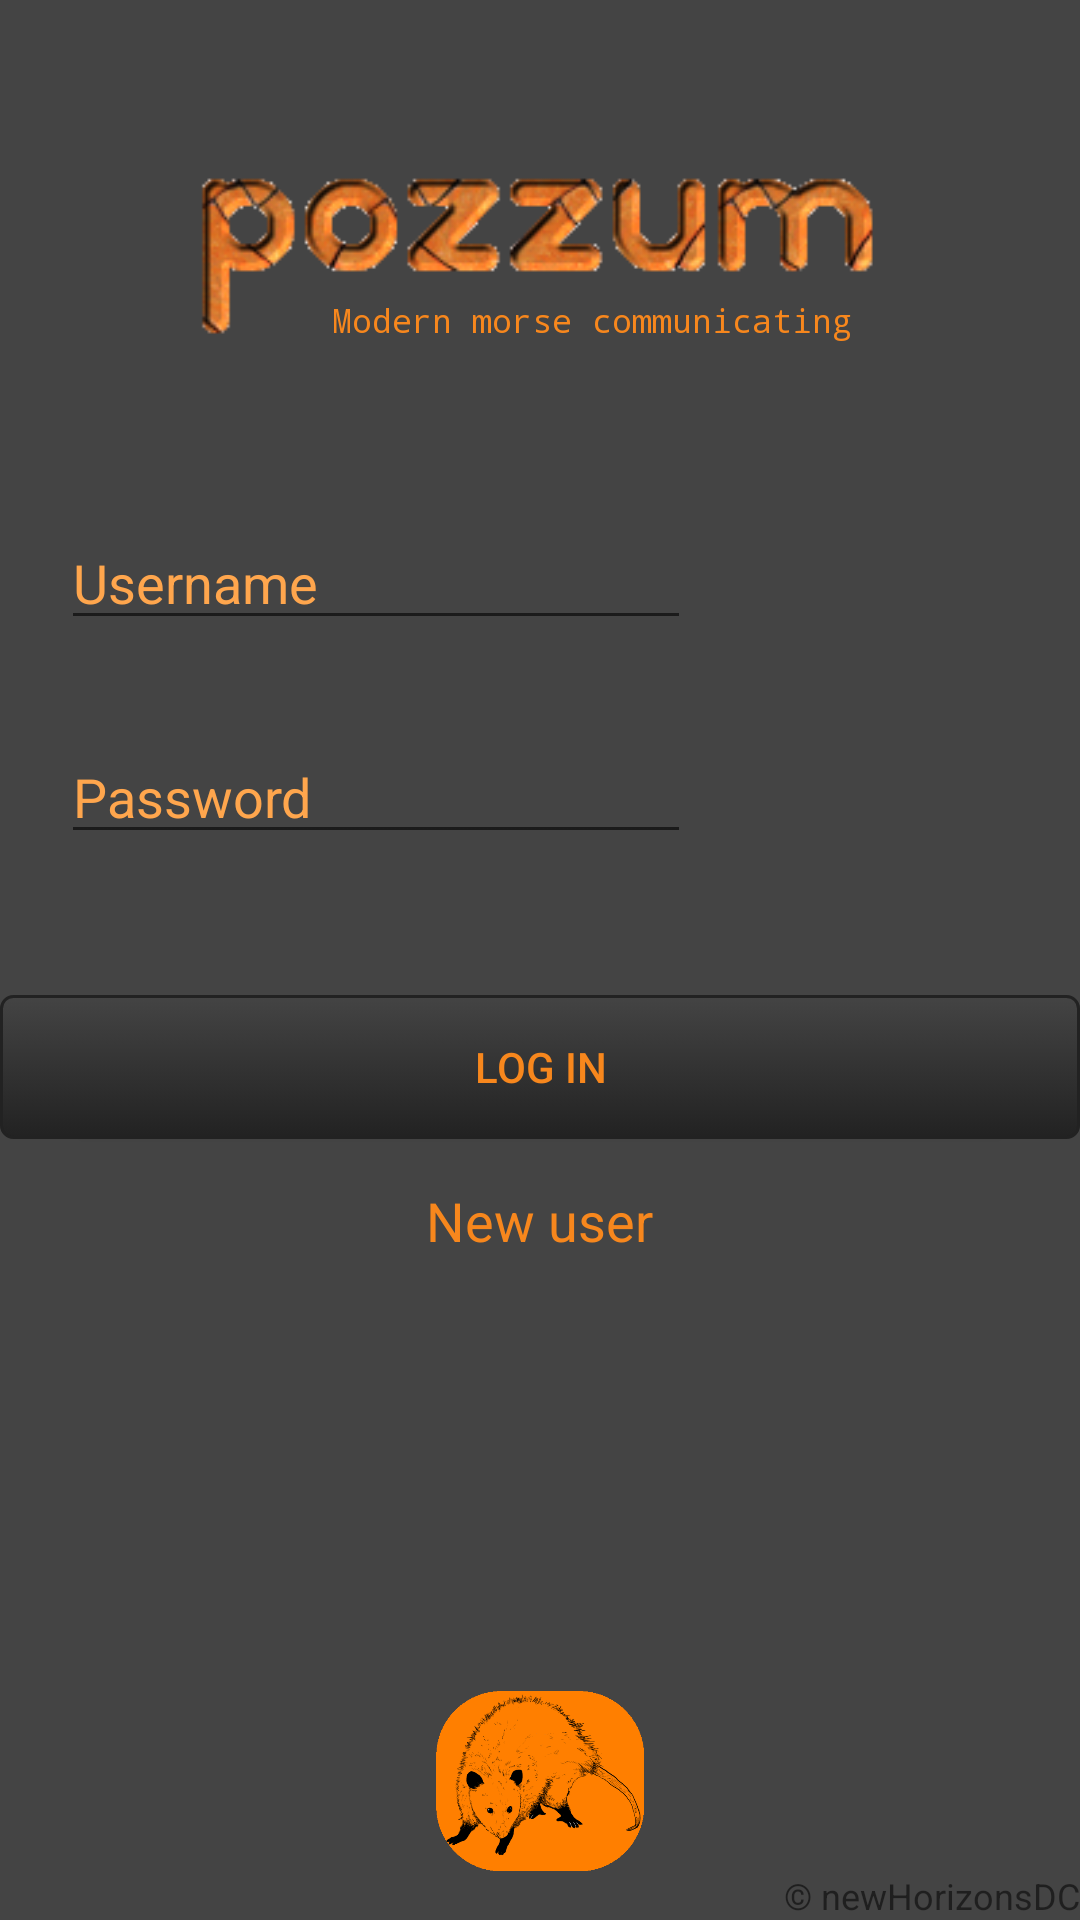

Locate icon controls on the screen. Image size 1080×1920, boxes as (x1, y1, x2, y2).
possum: (436, 1691, 644, 1871)
